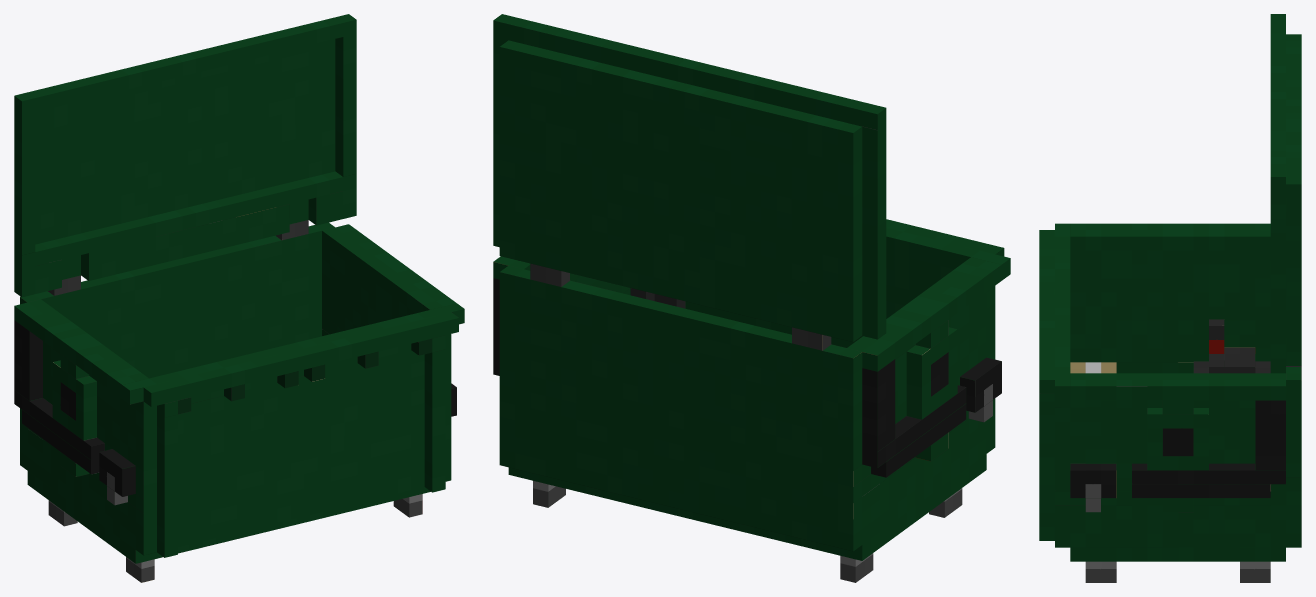
The model's file is Dumpster.fbx.
The picture shows the model from 3 angles, left to right: view 1: azimuth 30°, elevation 25°; view 2: azimuth 150°, elevation 25°; view 3: azimuth 270°, elevation 25°; orthographic projection. The views are drawn at different scales.
Visible parts, largest first — view 1: Dumpster; view 2: Dumpster; view 3: Dumpster.
Boxes of the visible parts, x1,y1,x2,y2 form: Dumpster: [14, 14, 464, 582]; Dumpster: [493, 14, 1010, 582]; Dumpster: [1039, 14, 1301, 582].
Bounding box in the file's own units: 25 × 30 × 17.
